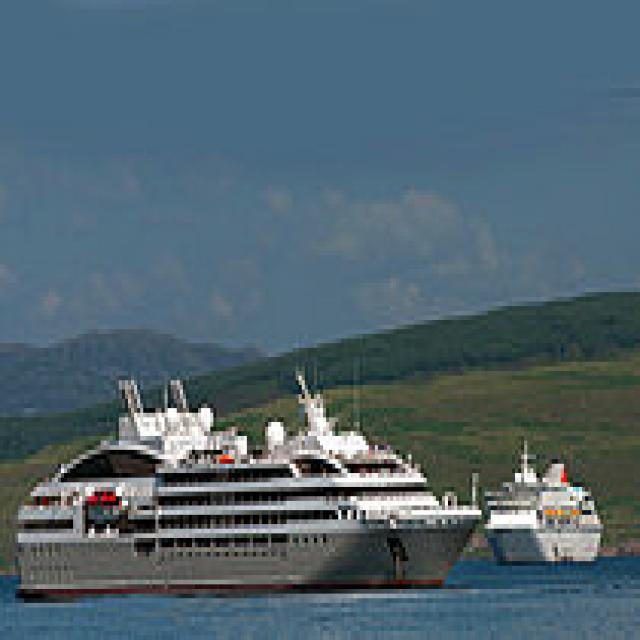Ship: (11, 349, 486, 600), (480, 428, 623, 586)
